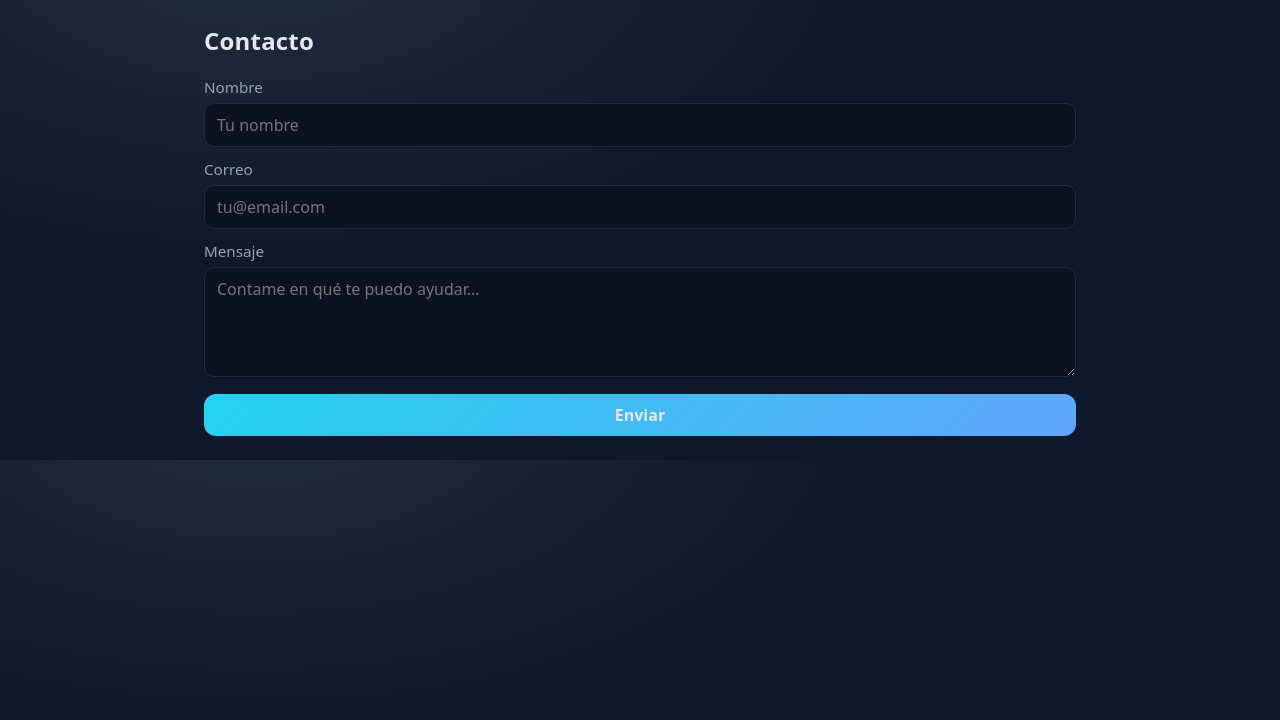
ContactForm › envía correctamente y resetea
Type "Pedro" into the field labelled "Nombre" at (640, 125), box x1=204 y1=103 x2=1076 y2=147
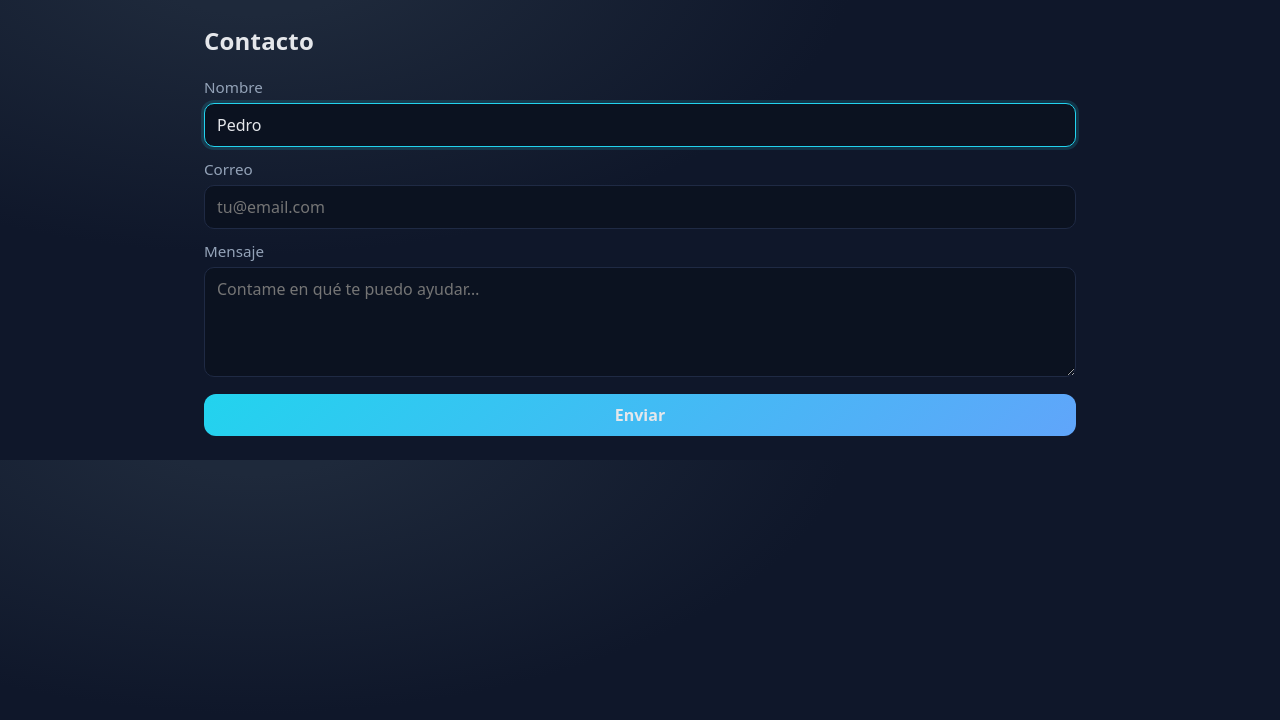
Type "pedro@mail.com" into the field labelled "Correo" at (640, 207), box x1=204 y1=185 x2=1076 y2=229
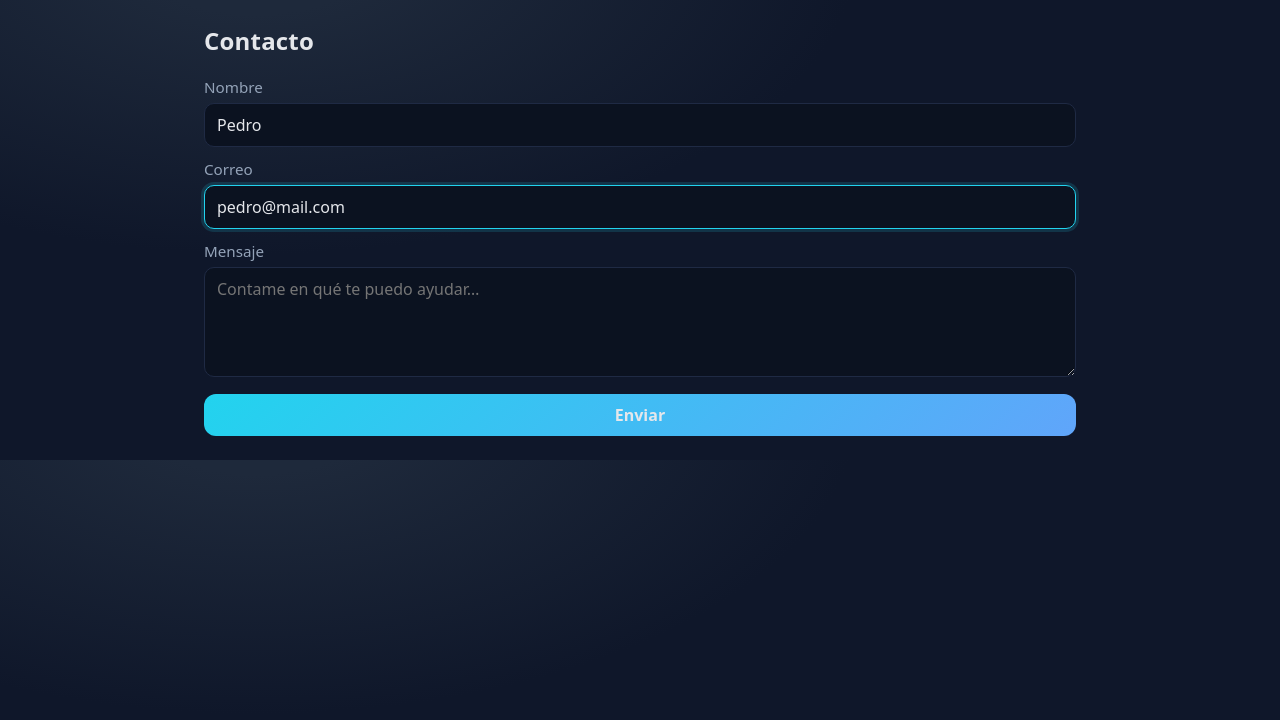
Type "Consulta de prueba" into the text box labelled "Mensaje" at (640, 322), box x1=204 y1=267 x2=1076 y2=377
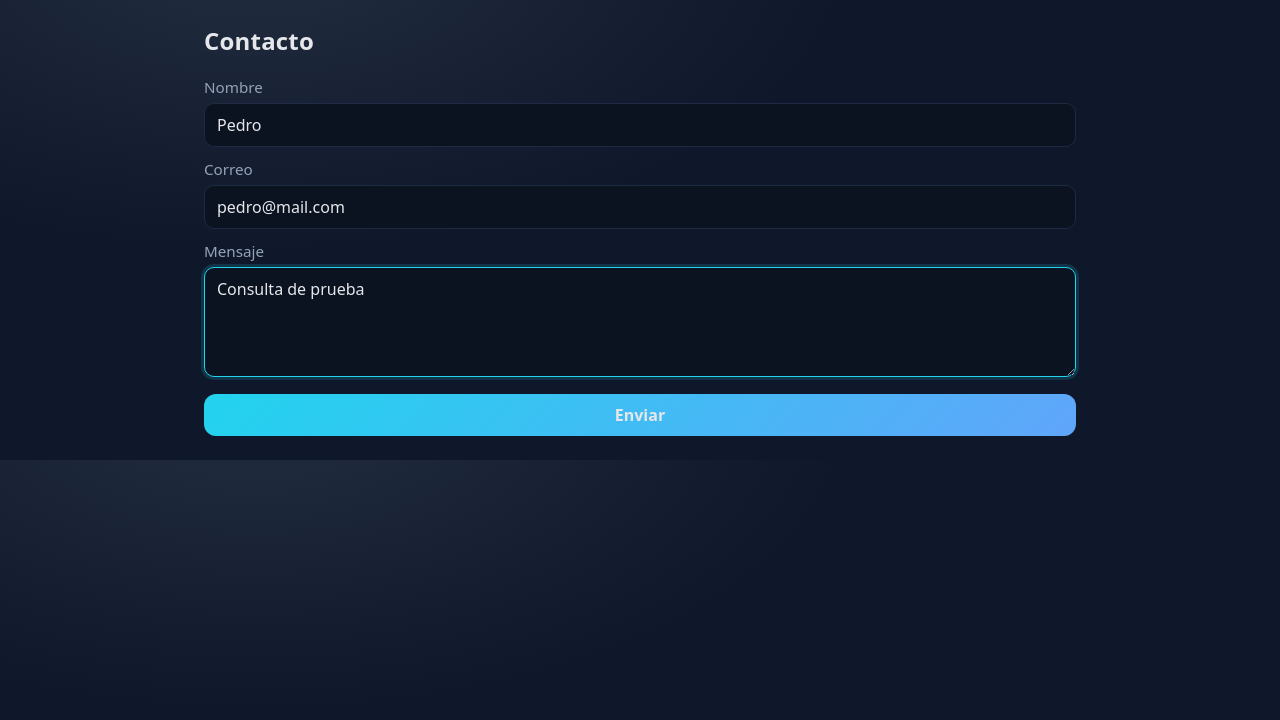
Click the button "Enviar" at (640, 415), box x1=204 y1=394 x2=1076 y2=436
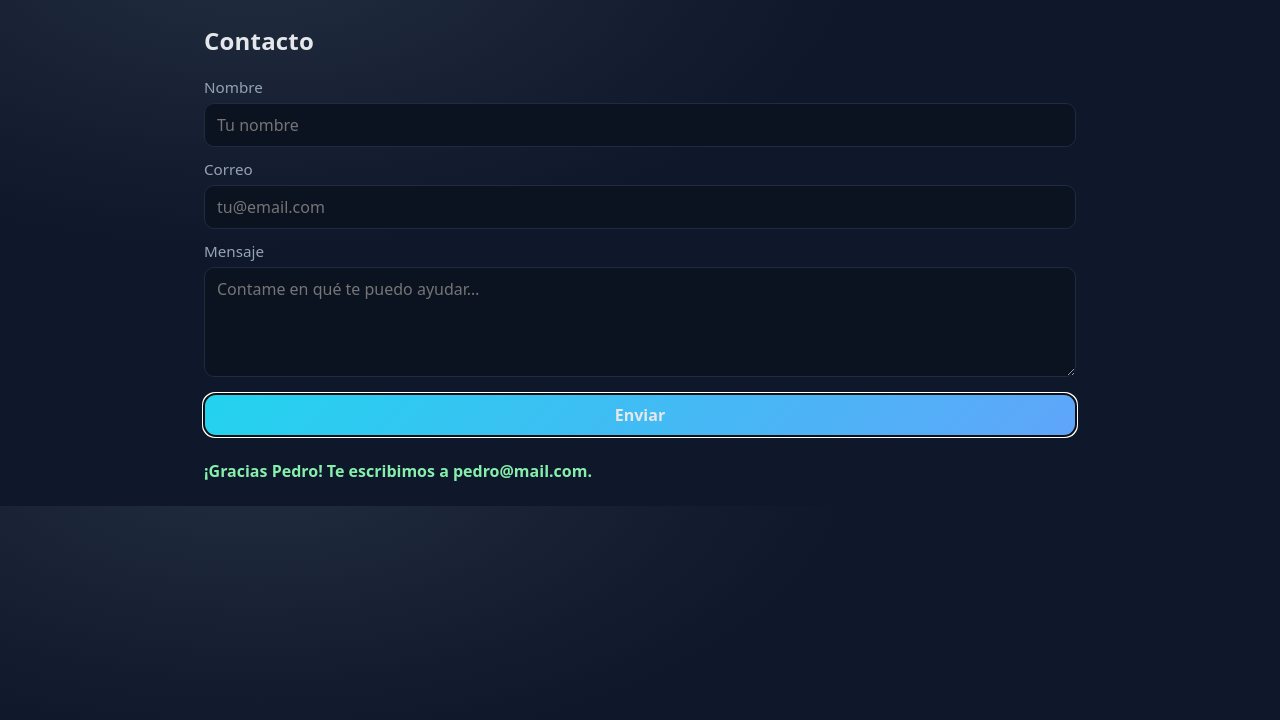
Result: the text with test id "success-msg" reads "¡Gracias Pedro! Te escribimos a pedro@mail.com." at x1=204 y1=460 x2=592 y2=482
Result: the field labelled "Nombre" is empty at x1=204 y1=103 x2=1076 y2=147
Result: the field labelled "Correo" is empty at x1=204 y1=185 x2=1076 y2=229
